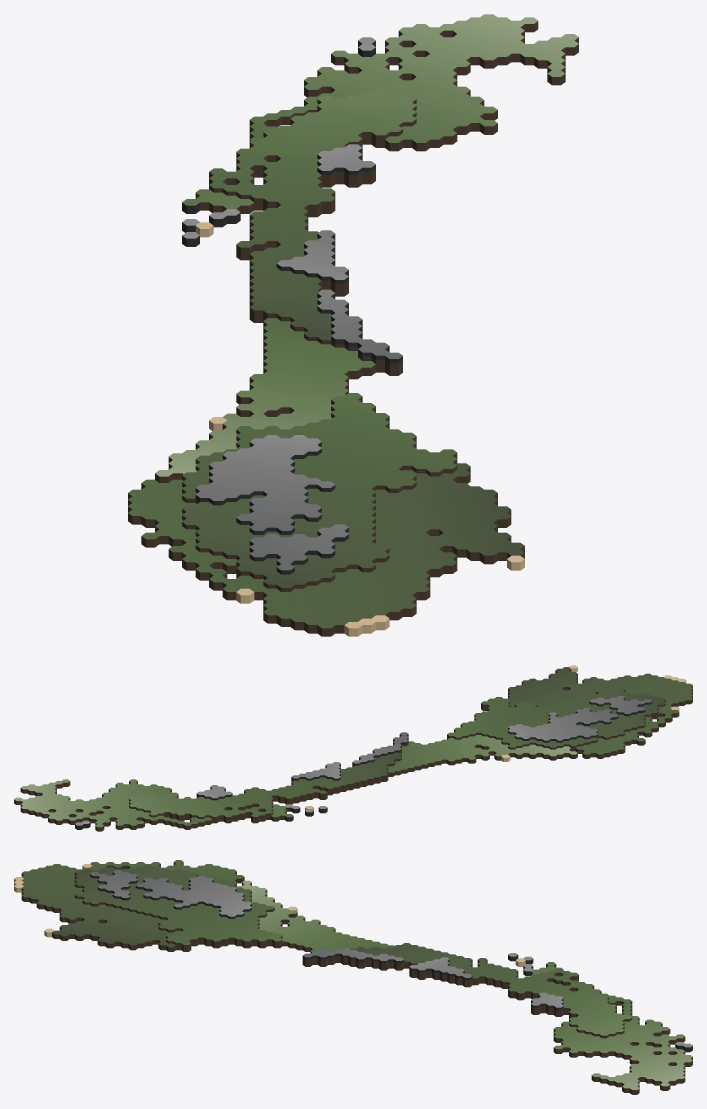
The model's file is GeoNerdMap_NewVersion.fbx.
The picture shows the model from 3 angles, top to bottom: view 1: azimuth 30°, elevation 25°; view 2: azimuth 150°, elevation 25°; view 3: azimuth 270°, elevation 25°; orthographic projection. The views are drawn at different scales.
Visible parts, largest first — view 1: Norway.001; view 2: Norway.001; view 3: Norway.001.
Boxes of the visible parts, x1,y1,x2,y2 form: Norway.001: [128, 14, 578, 636]; Norway.001: [14, 665, 692, 831]; Norway.001: [14, 860, 692, 1094].
Bounding box in the file's own units: 20960 × 401 × 26154.
